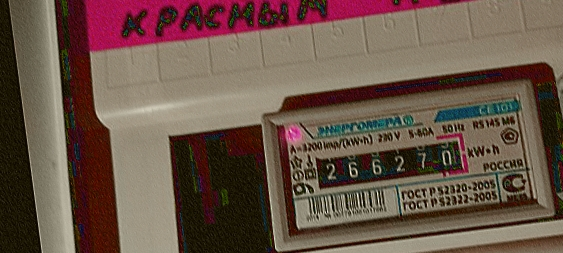0: (437, 146, 451, 168)
2: (321, 159, 338, 182), (391, 152, 405, 174)
6: (344, 159, 359, 180), (368, 155, 382, 176)
7: (414, 149, 428, 170)
screen: (299, 124, 478, 202)
